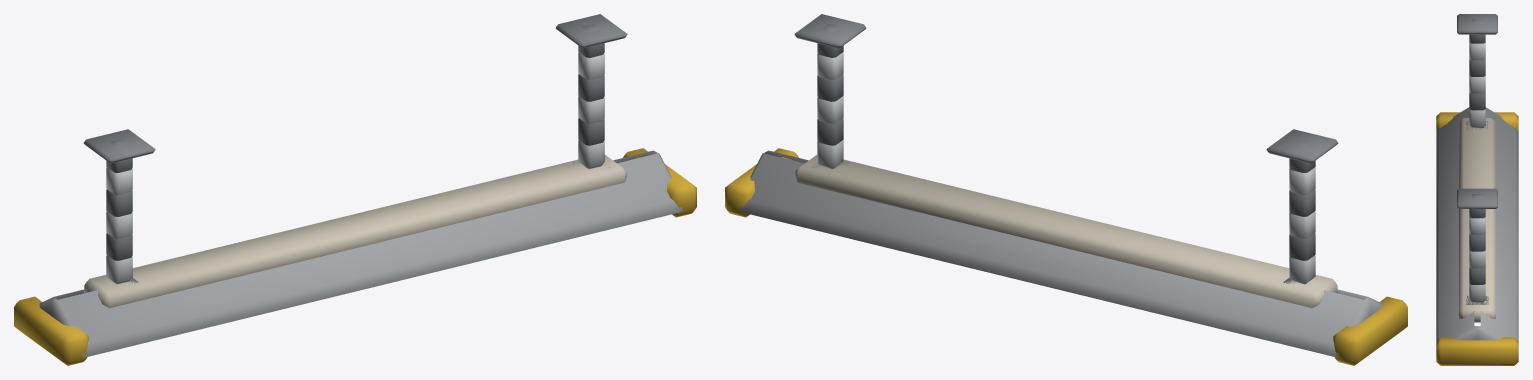
Rendered from Light_Shop_01.glb.
3 renders of one model, left to right at view 1: azimuth 30°, elevation 25°; view 2: azimuth 150°, elevation 25°; view 3: azimuth 270°, elevation 25°, orthographic. The views are drawn at different scales.
Visible parts, largest first — view 1: SM_Light_Shop_01; view 2: SM_Light_Shop_01; view 3: SM_Light_Shop_01.
Part boxes in pixels (x1=…): SM_Light_Shop_01: x1=14, y1=14, x2=696, y2=365; SM_Light_Shop_01: x1=725, y1=14, x2=1407, y2=365; SM_Light_Shop_01: x1=1436, y1=14, x2=1518, y2=365.
Bounding box in the file's own units: 1.21 × 0.34 × 0.18.
1 material, 1 textured.
